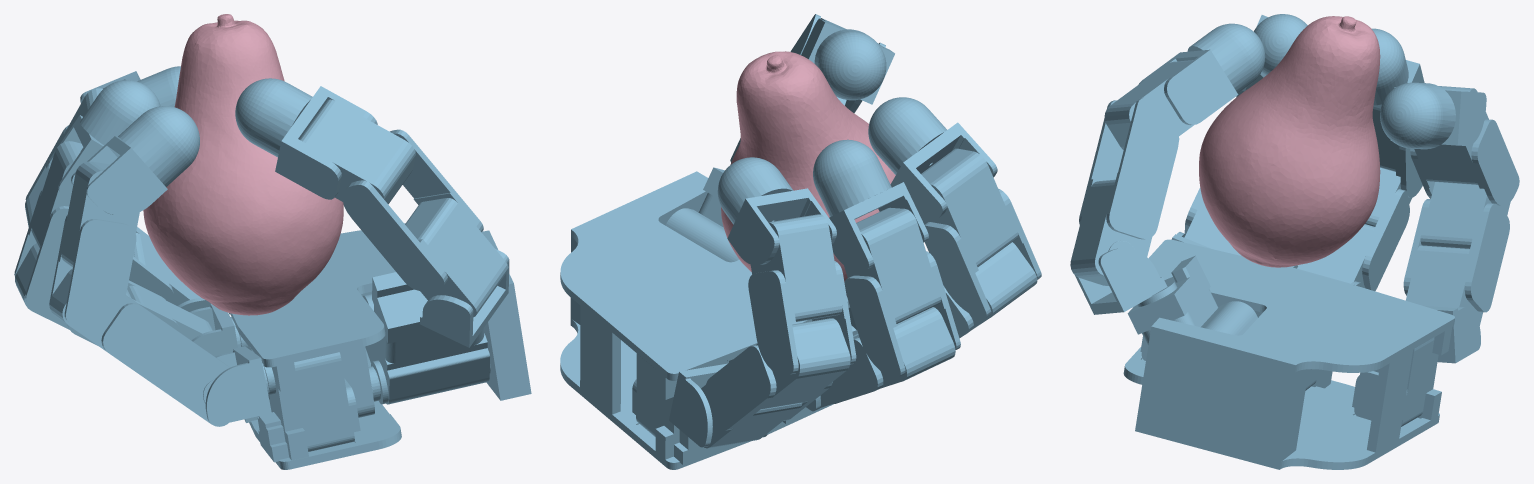
3 renders of one model, left to right at view 1: azimuth 30°, elevation 25°; view 2: azimuth 150°, elevation 25°; view 3: azimuth 270°, elevation 25°, orthographic. The views are drawn at different scales.
Parts seen in each view (by area): view 1: world; view 2: world; view 3: world.
Part boxes in pixels (bbox=[...]): world: bbox=[14, 14, 531, 469]; world: bbox=[560, 14, 1041, 469]; world: bbox=[1070, 14, 1519, 469].
Bounding box in the file's own units: 0.182 × 0.151 × 0.1627.
